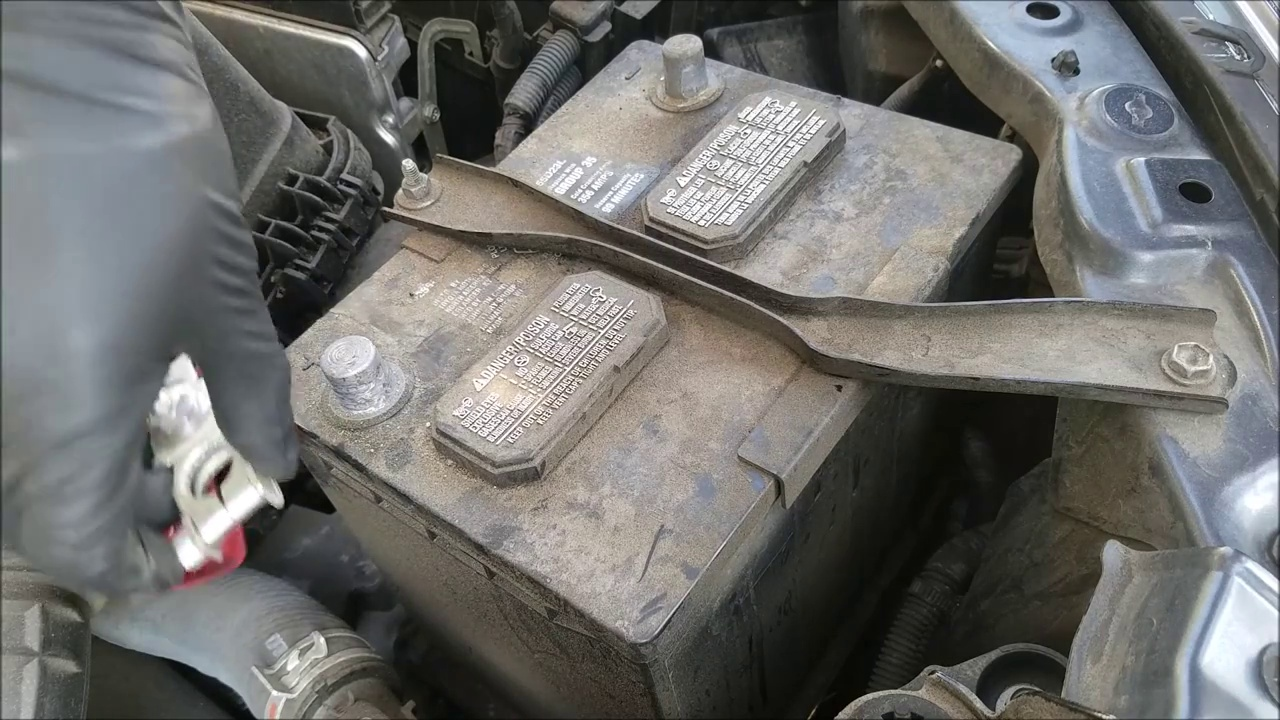battery: (240, 32, 1020, 637)
neg_disconnected: (636, 19, 749, 131)
pos_disconnected: (107, 329, 443, 598)
